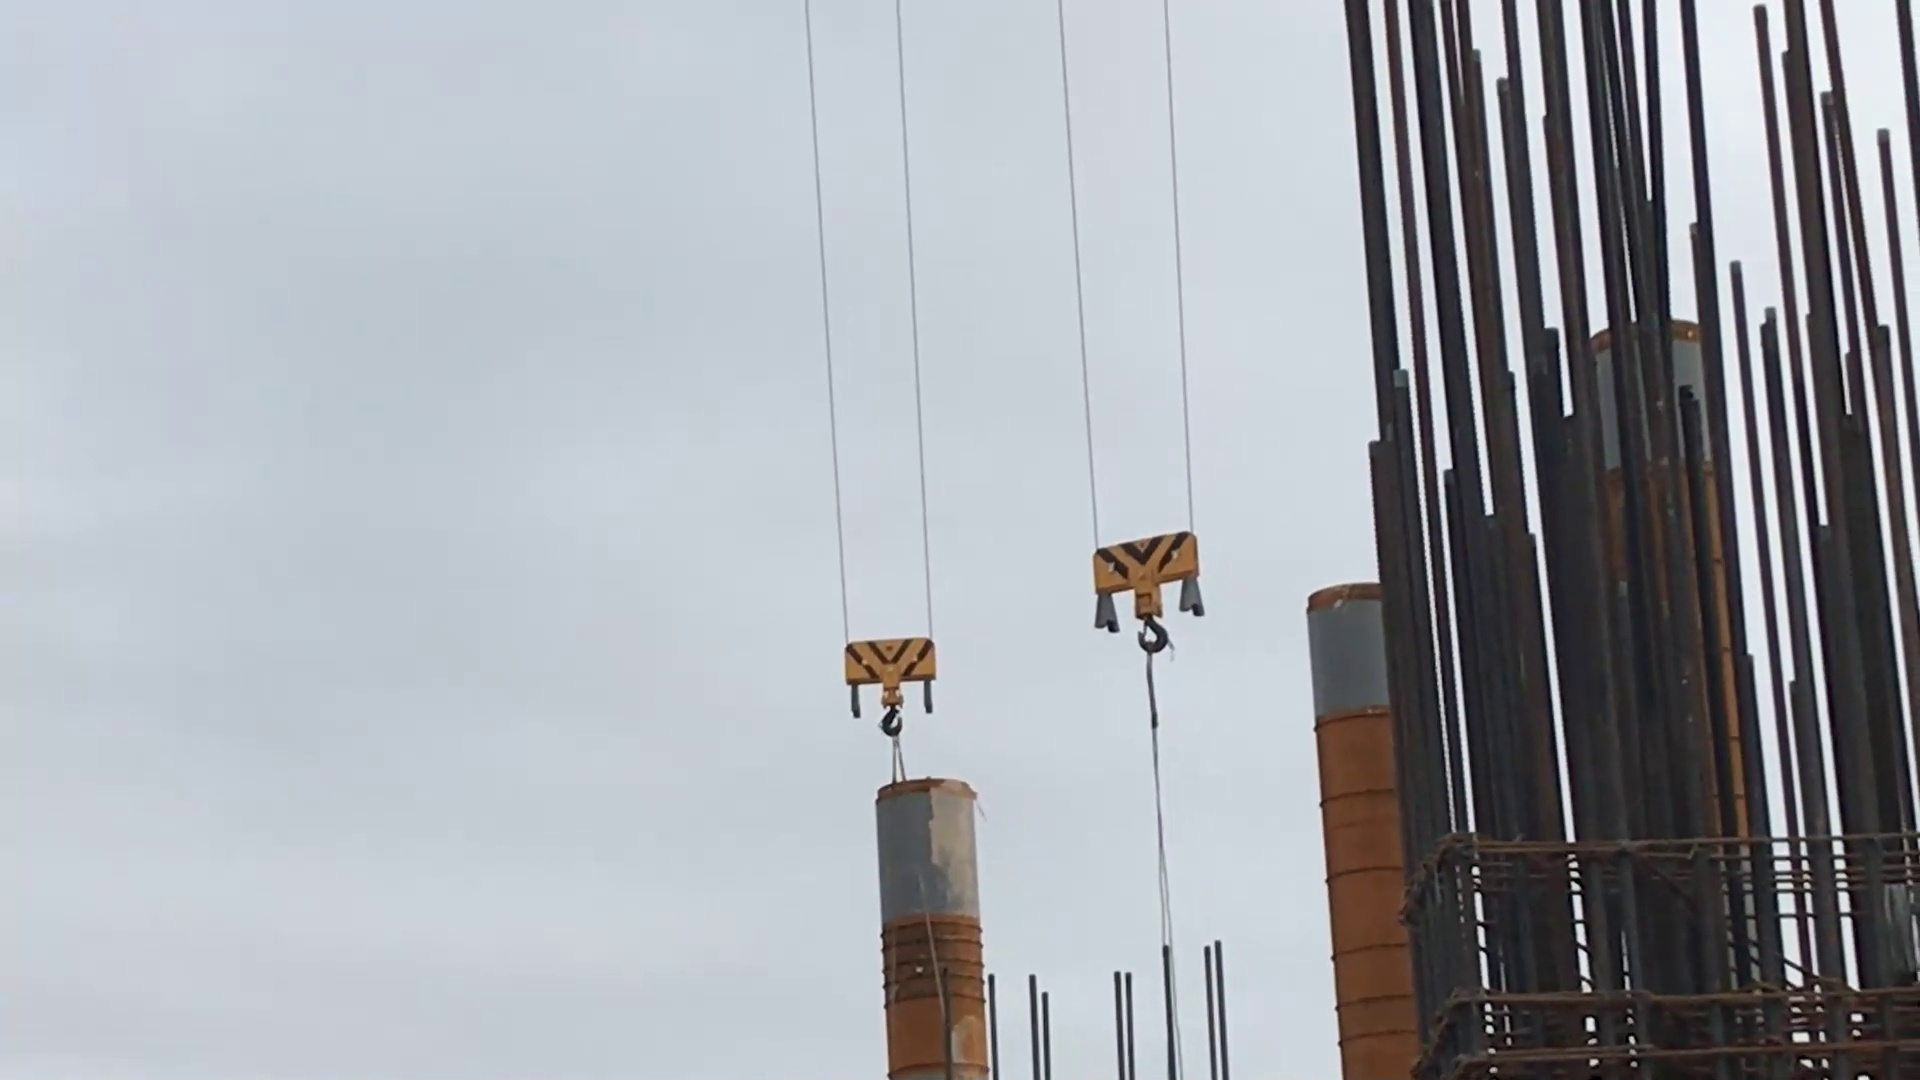hook: (1088, 530, 1207, 657), (843, 633, 939, 740)
